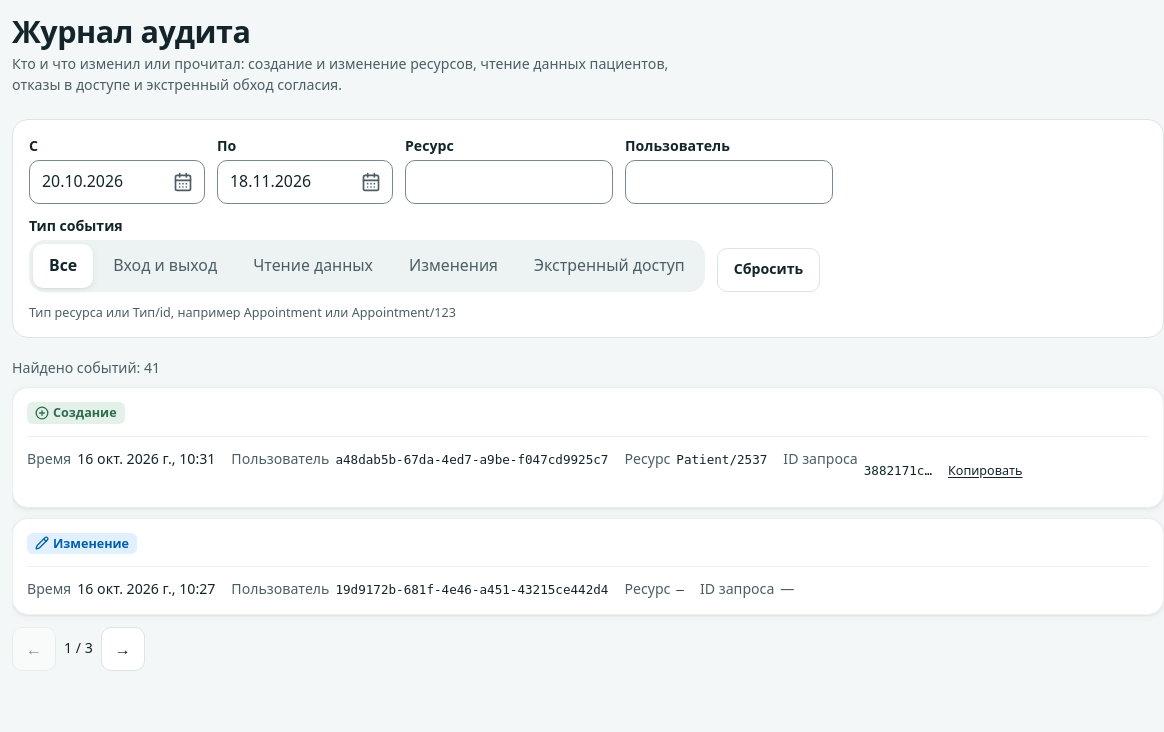
it: AuditPanel › should refuse a malformed resource once typing pauses, send nothing and keep the focus in the field
Expected: the text "Найдено событий: 41" is shown, x1=12 y1=358 x2=160 y2=377
Type "appointment" into the field labelled "Ресурс".
click(509, 182); type("appointment")  # box x1=405 y1=160 x2=613 y2=204
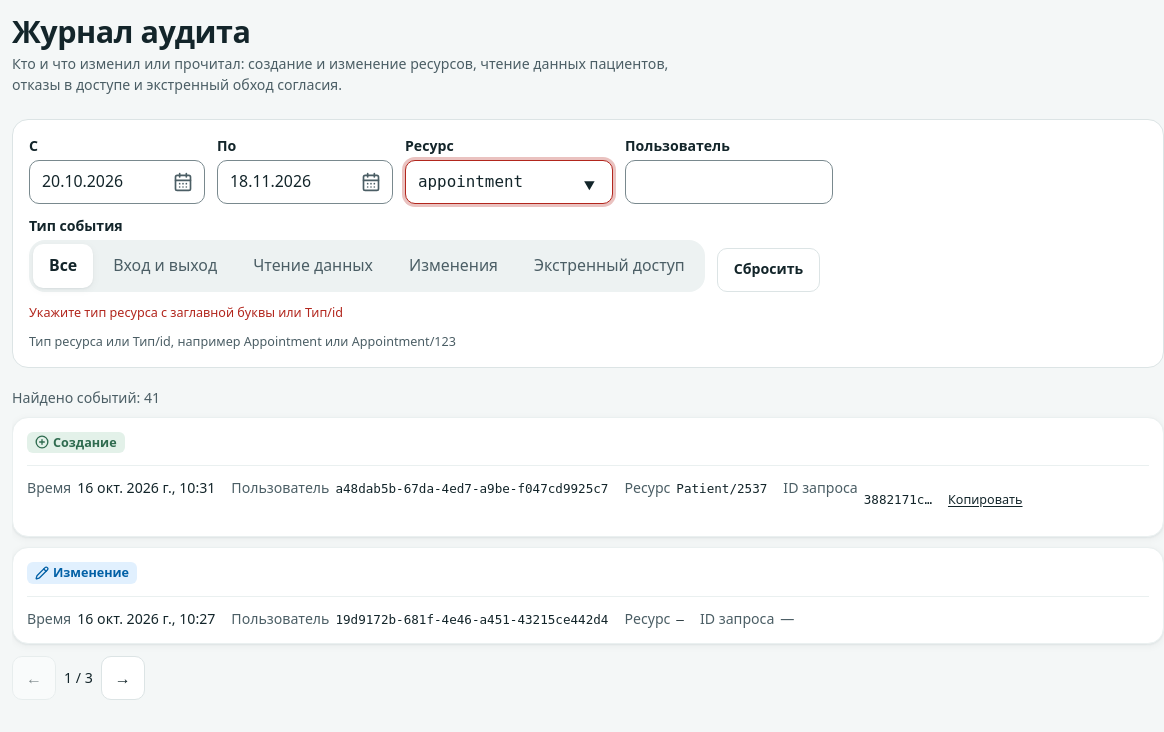
Result: the text "Укажите тип ресурса с заглавной буквы или Тип/id" is shown at x1=29 y1=304 x2=343 y2=321
